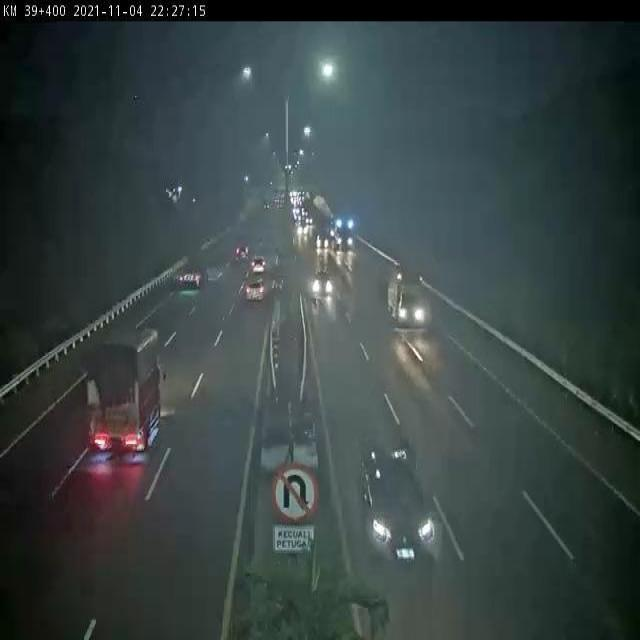Car: (357, 456, 436, 574), (178, 264, 208, 292), (309, 270, 333, 298), (243, 280, 268, 304), (335, 230, 355, 254), (249, 256, 267, 277), (234, 244, 251, 264), (316, 233, 329, 250), (304, 216, 314, 226)
Truck: (84, 325, 168, 459), (385, 265, 428, 330)
